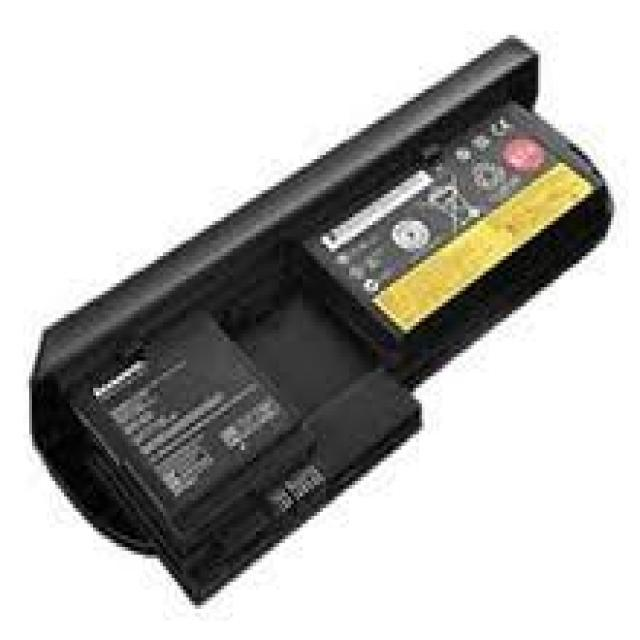battery: (34, 34, 616, 607)
